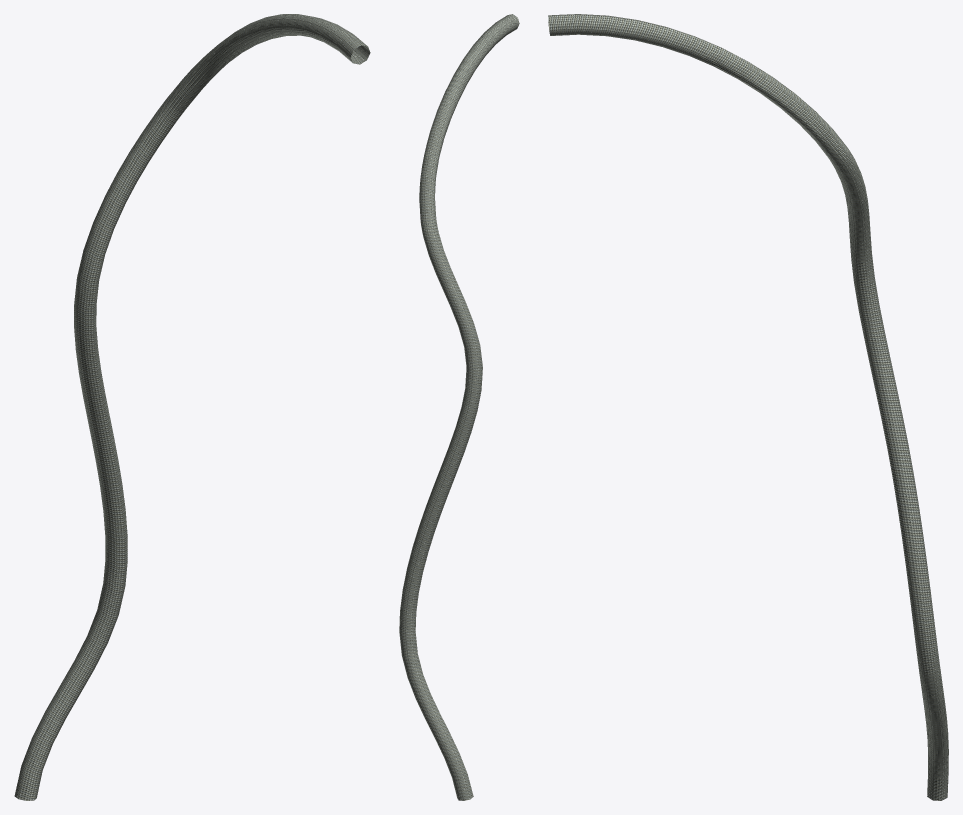
Rendered from microtubule12.fbx.
3 renders of one model, left to right at view 1: azimuth 30°, elevation 25°; view 2: azimuth 150°, elevation 25°; view 3: azimuth 270°, elevation 25°, orthographic. The views are drawn at different scales.
Visible parts, largest first — view 1: microtubule12; view 2: microtubule12; view 3: microtubule12.
Boxes of the visible parts, x1,y1,x2,y2 form: microtubule12: (14,14,370,800); microtubule12: (399,14,519,800); microtubule12: (548,14,948,800).
Size of the model in its own units: 1191 by 6359 by 2726.
Materials: 1 (1 with a texture image).
